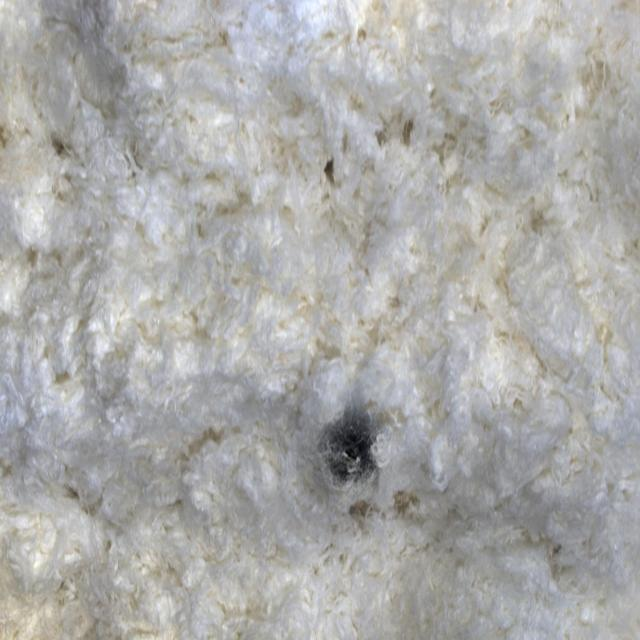dust: (297, 352, 419, 546)
